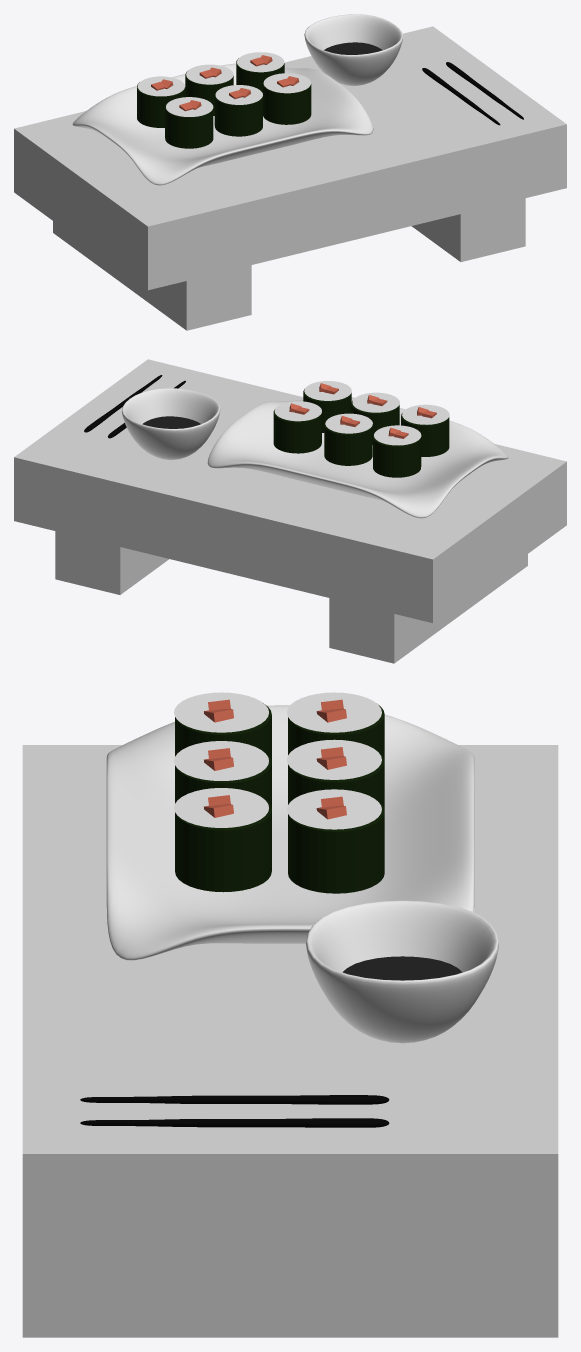
File: Sushi.fbx
3 views of the same model, one above another, from view 1: azimuth 30°, elevation 25°; view 2: azimuth 150°, elevation 25°; view 3: azimuth 270°, elevation 25° (orthographic). The views are drawn at different scales.
Parts seen in each view (by area): view 1: Sushi; view 2: Sushi; view 3: Sushi.
Part boxes in pixels (x1,y1,x2,y2): Sushi: [14, 14, 566, 330]; Sushi: [14, 359, 566, 663]; Sushi: [22, 692, 558, 1337].
Bounding box in the file's own units: 361 × 147 × 200.
